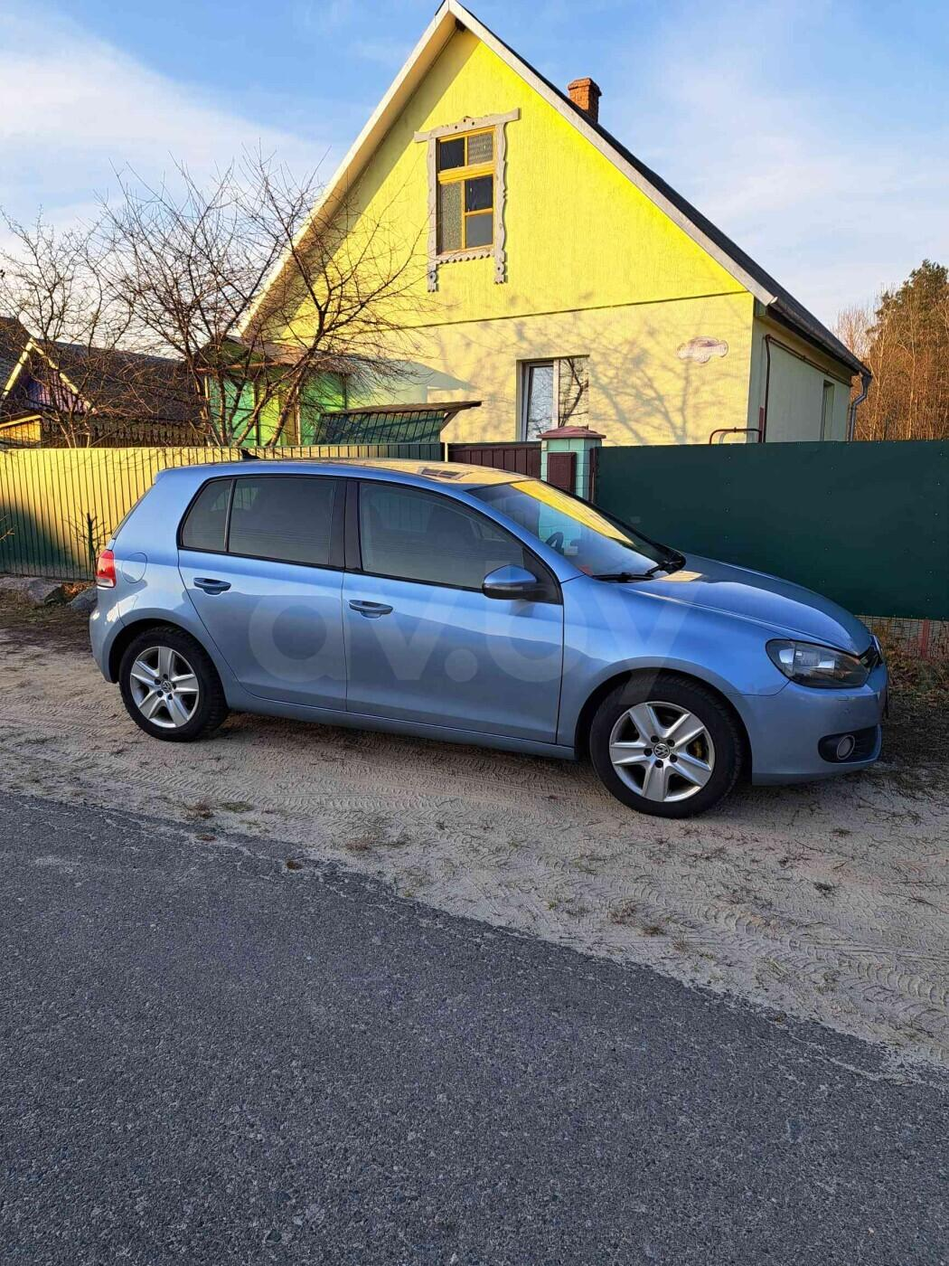Golf_2008-2013: (86, 453, 878, 808)
